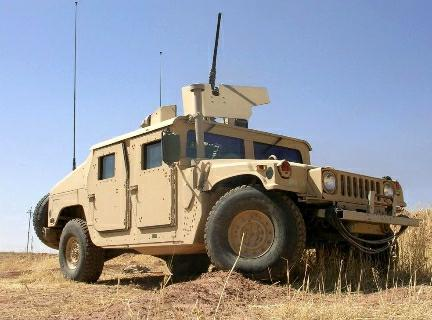car: (29, 76, 425, 292)
